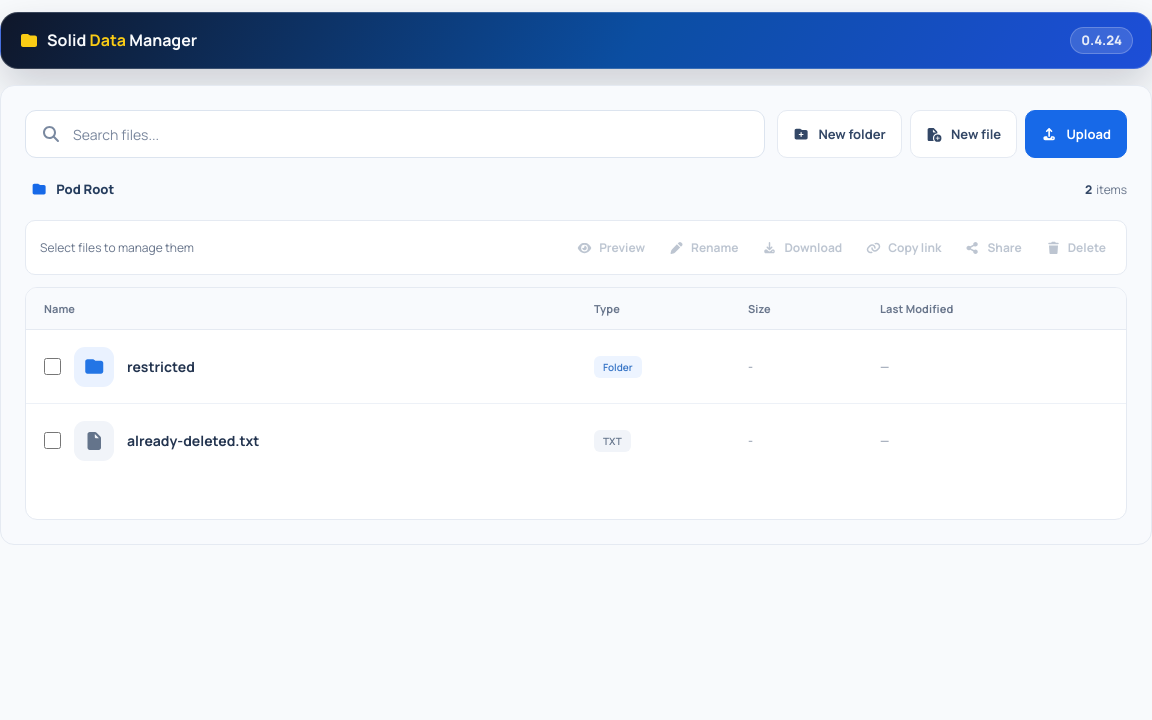
Test case: reloads the parent after a later item fails following a successful delete
What coordinates should you click on to do the following:
click the text "already-deleted.txt"
I would click on:
 (576, 441)
Its box is [26, 404, 1126, 478].
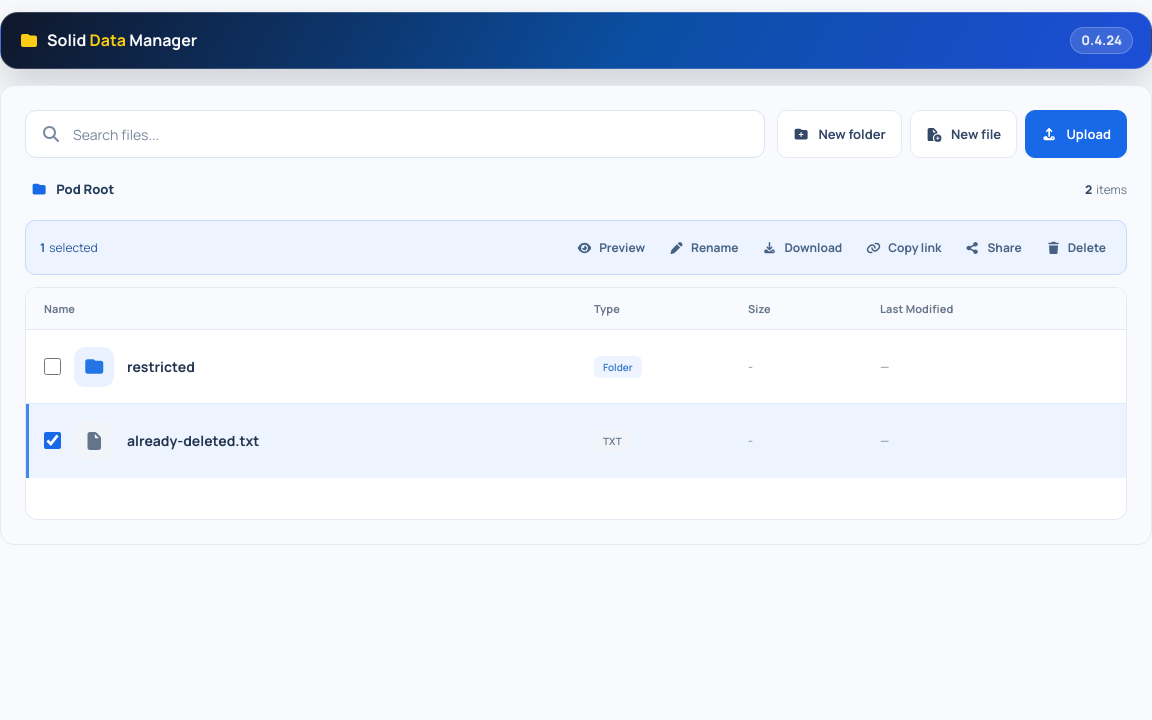
What coordinates should you click on to do the following:
click the text "restricted"
I would click on:
 (576, 367)
Its box is [26, 330, 1126, 404].
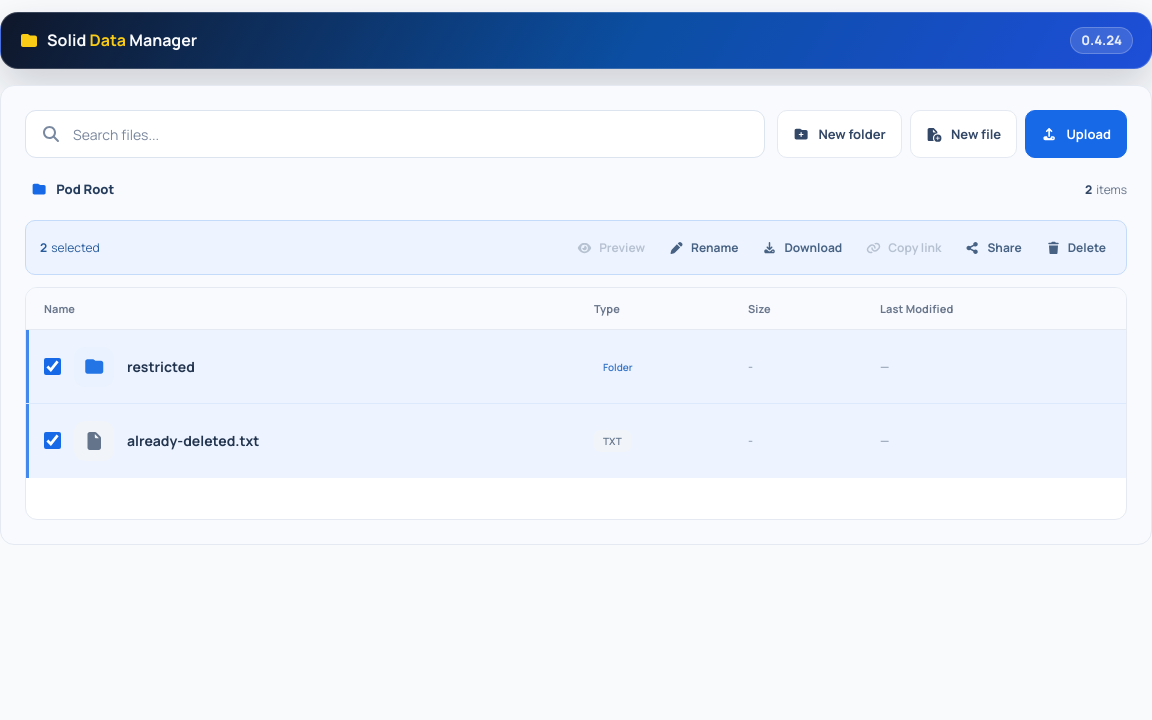
What coordinates should you click on to do the following:
click the button titled "Delete"
I would click on:
 (1076, 248)
Its box is [1036, 228, 1116, 268].
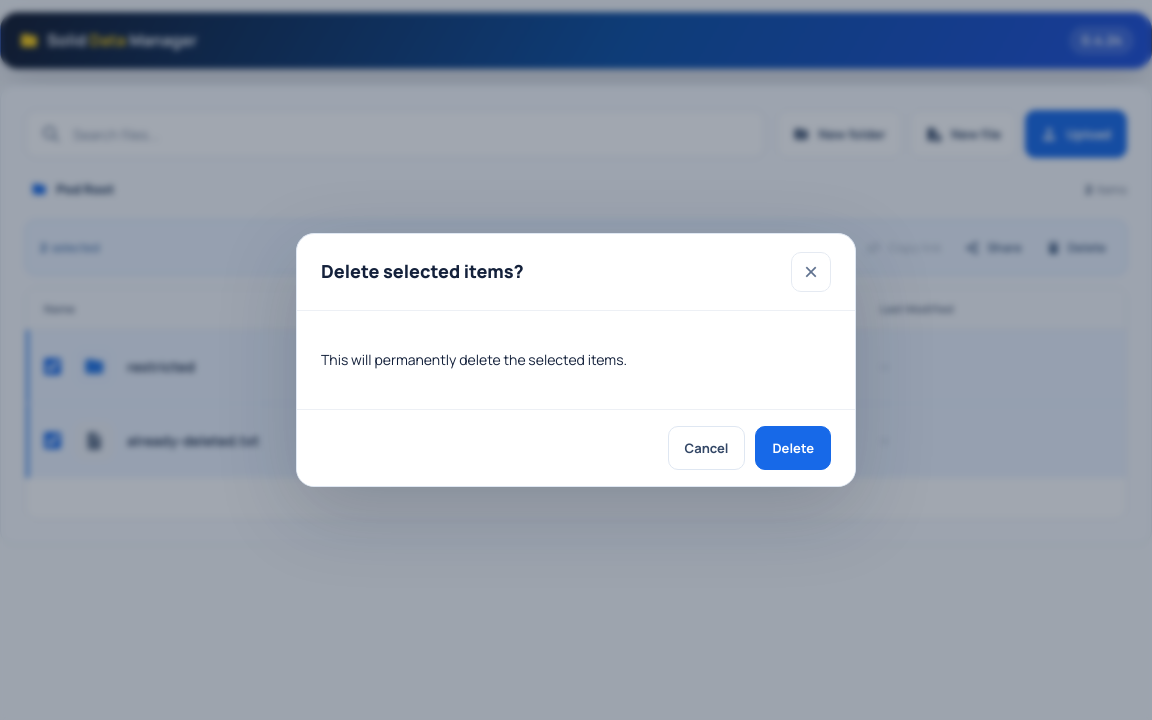
What coordinates should you click on to do the following:
click the button "Delete"
I would click on:
 (793, 448)
Its box is [756, 426, 831, 470].
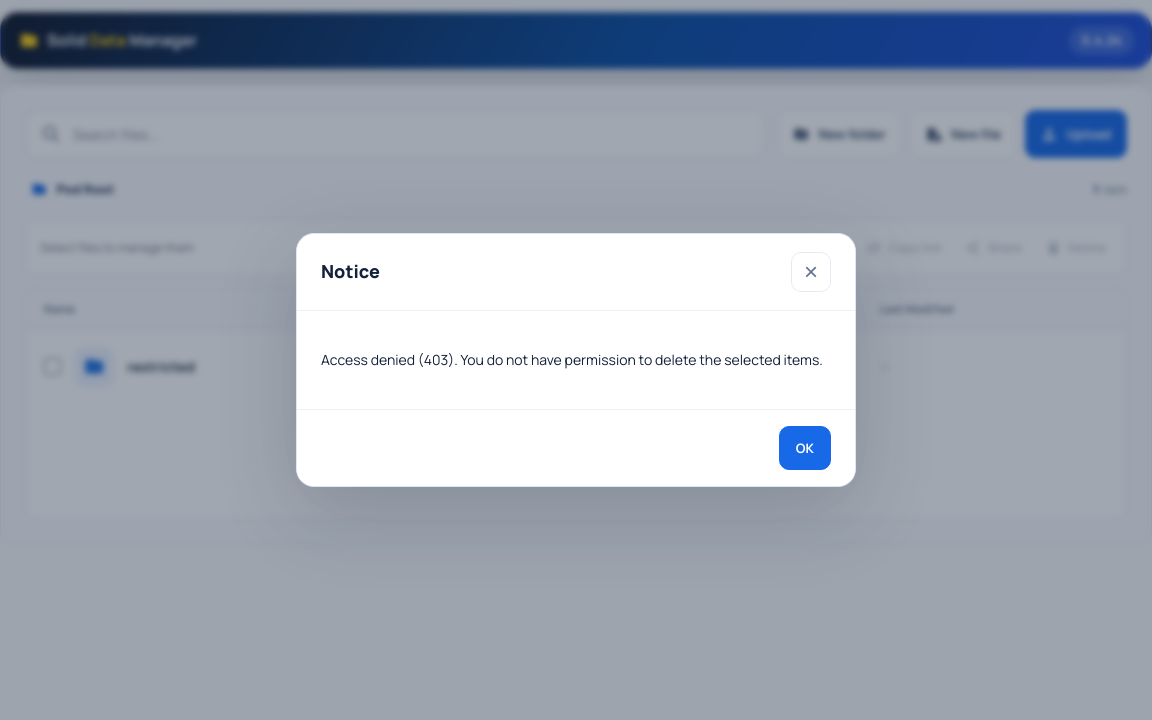
Expected: the text "restricted" is shown, [127, 357, 195, 376]
Expected: the text "Access denied (403). You do not have permission to delete the selected items." is shown, [321, 349, 831, 371]
Expected: the text "already-deleted.txt" is gone
